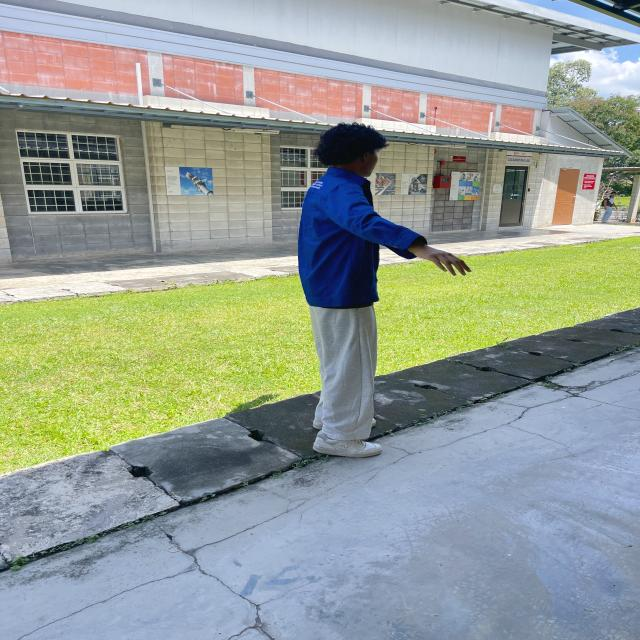person_with_labcoat: (298, 123, 471, 458)
